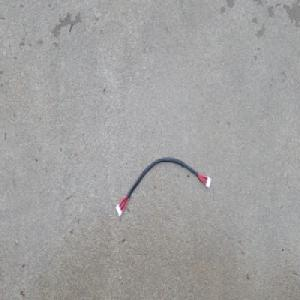Wire: (114, 155, 212, 218)
